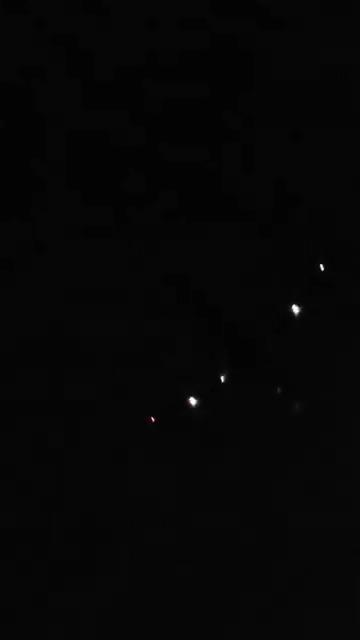Plane: (127, 258, 360, 449)
